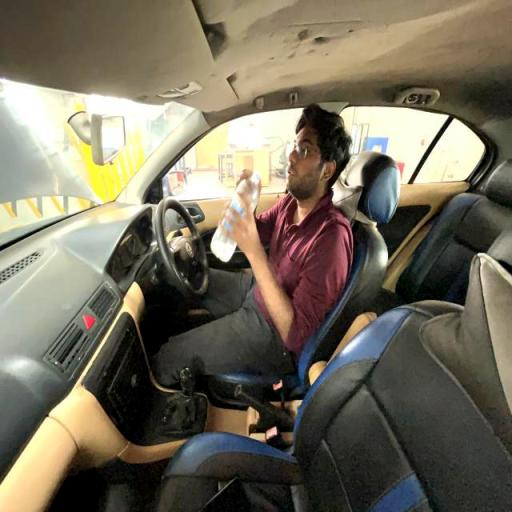Drinking: (199, 103, 356, 358)
